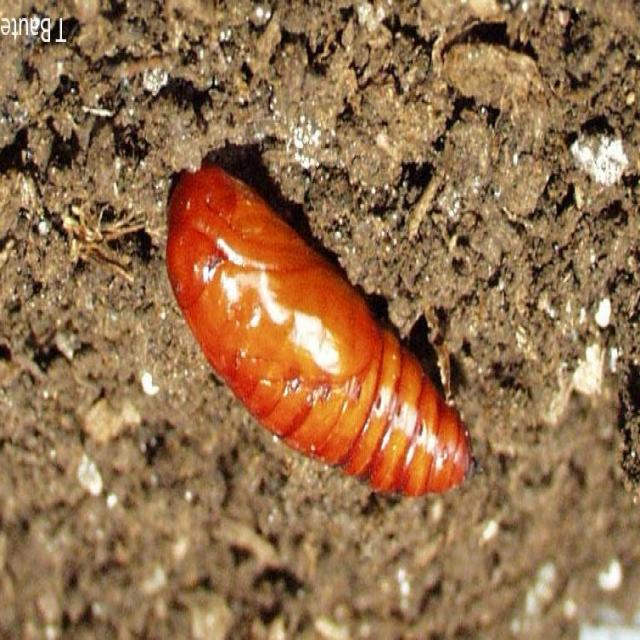black cutworm: (139, 136, 484, 509)
